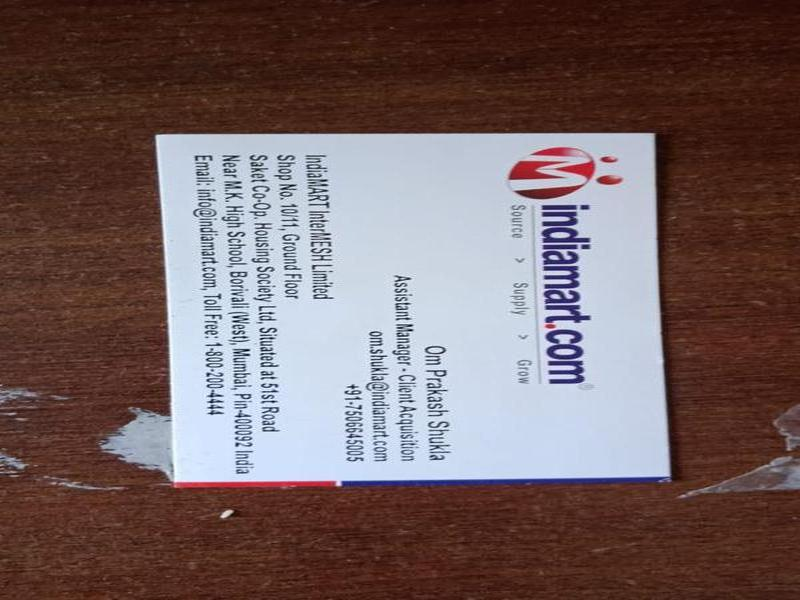card: (148, 128, 681, 489)
